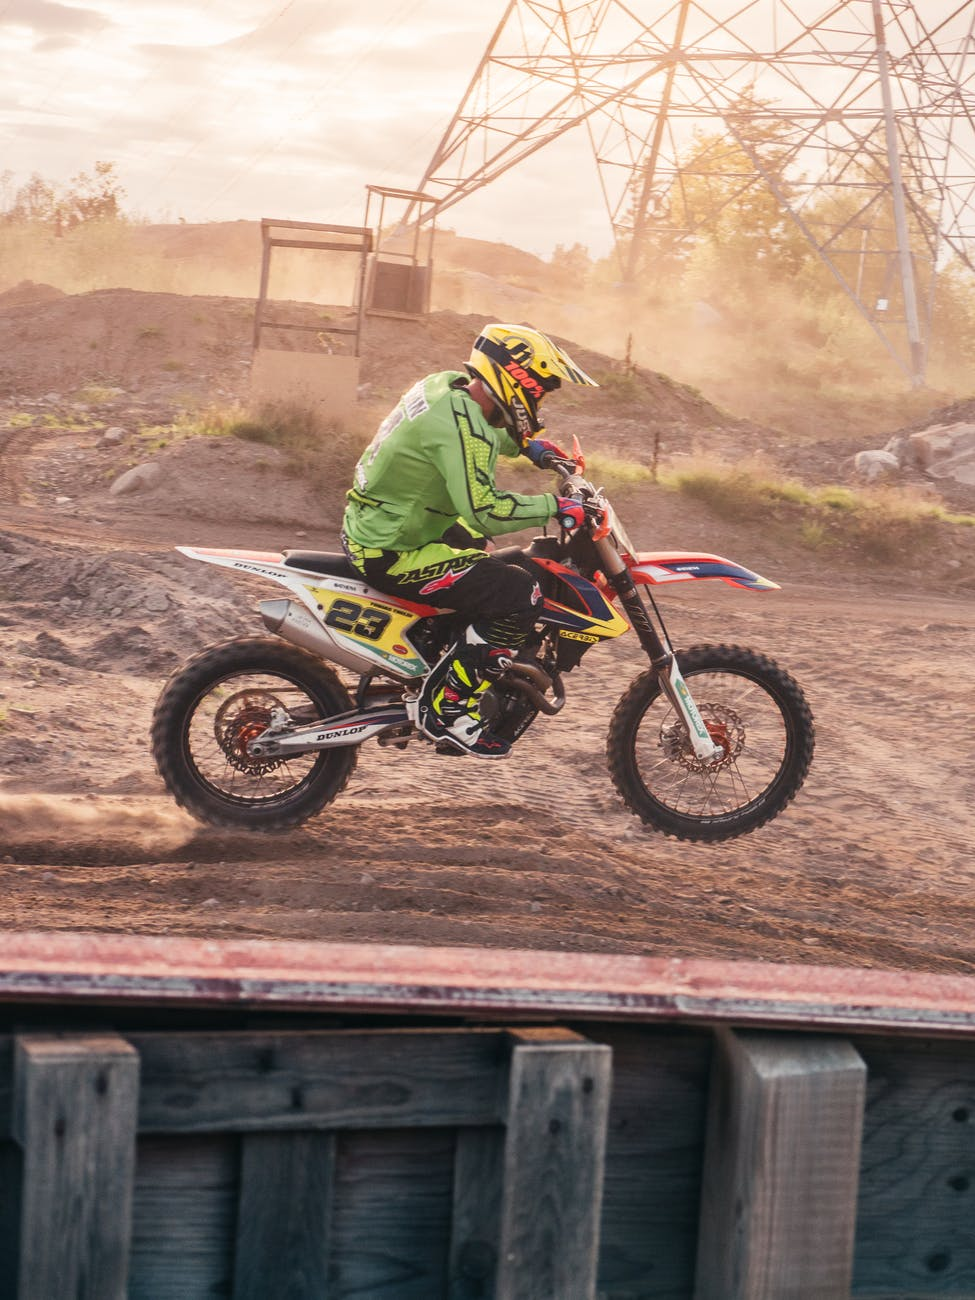helmet: (474, 315, 574, 435)
